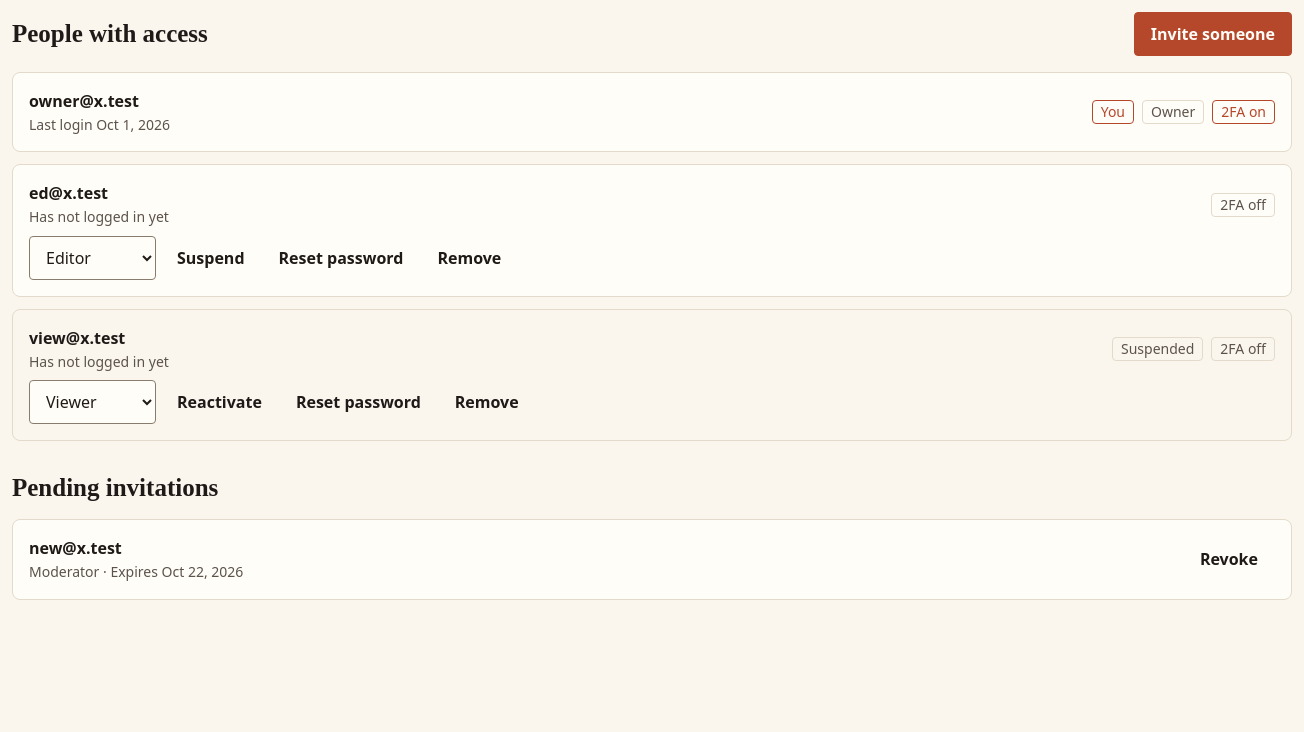
Scenario: MembersManager › changes a role and shows the API error in the page
Select "Admin" in the dropdown named "Role for ed@x.test" at point(92, 258), box [29,236,156,280]
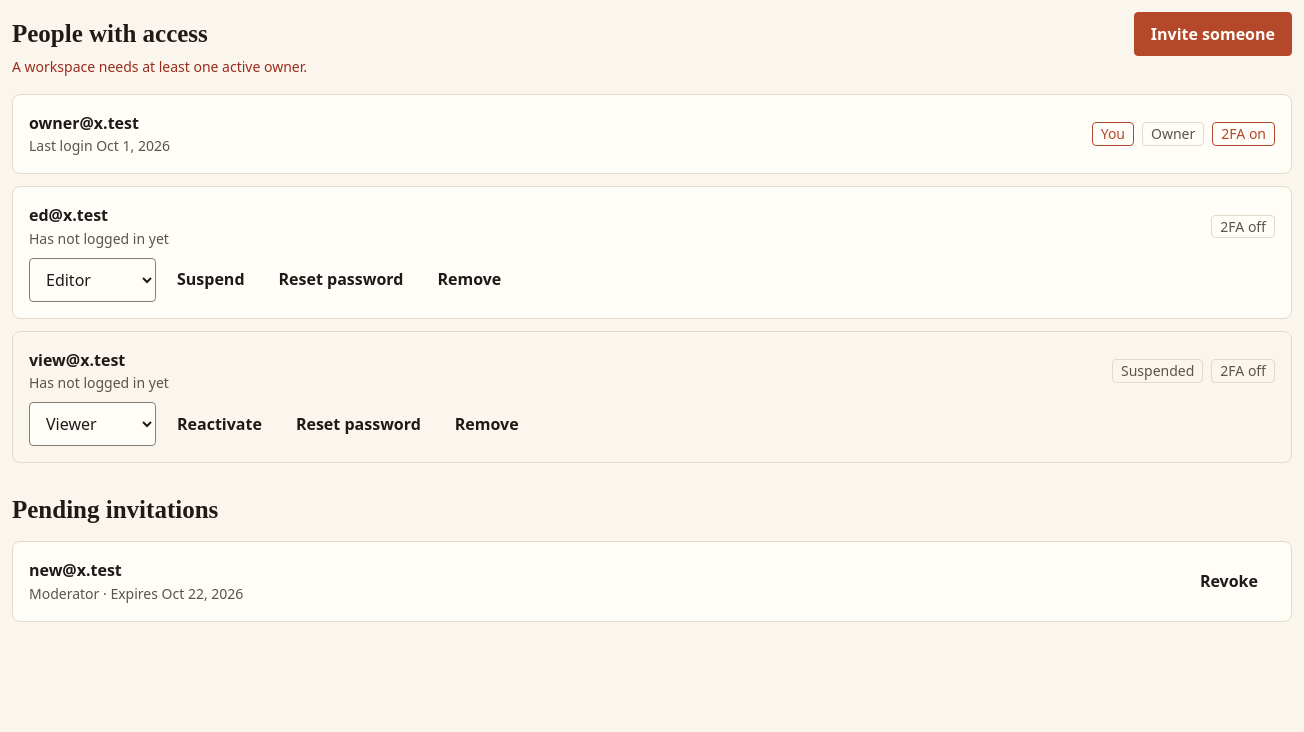
Expected: the message shows "at least one active owner", [12,57,307,76]
